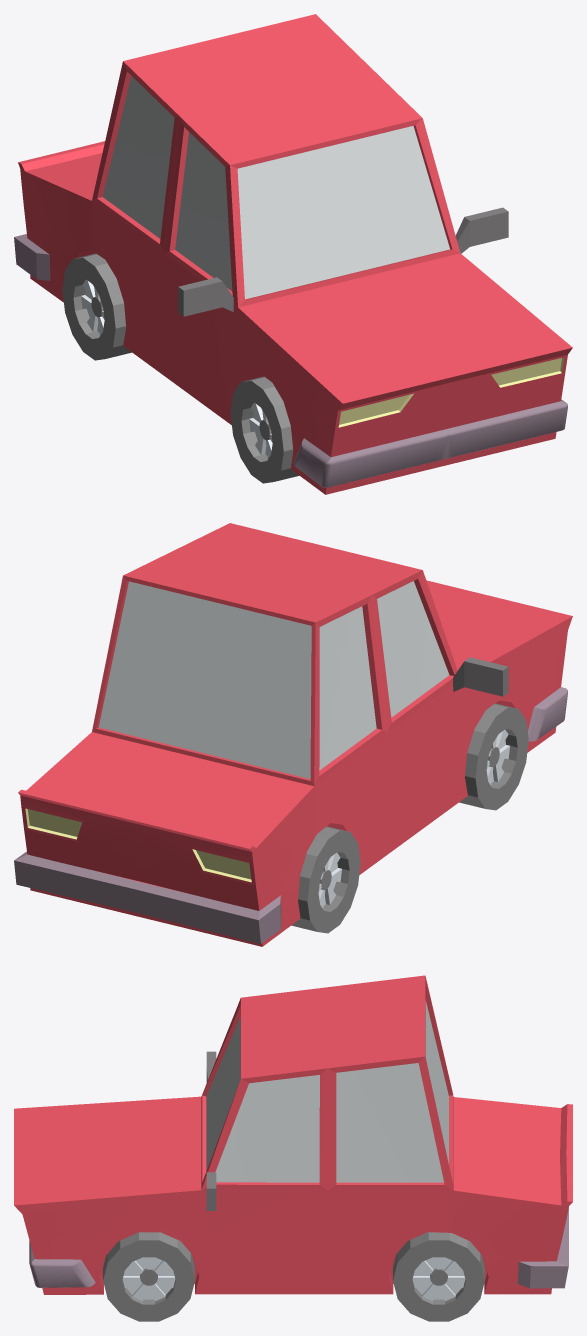
The model's file is car_new.fbx.
3 renders of one model, top to bottom at view 1: azimuth 30°, elevation 25°; view 2: azimuth 150°, elevation 25°; view 3: azimuth 270°, elevation 25°, orthographic. The views are drawn at different scales.
Parts seen in each view (by area): view 1: car window, car wheel rear, car wheel front; view 2: car window, car wheel front, car wheel rear; view 3: car window, car wheel rear, car wheel front.
Boxes of the visible parts, x1,y1,x2,y2 form: car window: (14, 14, 572, 494); car wheel rear: (62, 253, 131, 360); car wheel front: (230, 376, 299, 483); car window: (14, 523, 572, 946); car wheel front: (459, 703, 528, 810); car wheel rear: (291, 826, 360, 933); car window: (14, 975, 572, 1294); car wheel rear: (393, 1232, 484, 1321); car wheel front: (103, 1232, 194, 1321).
Size of the model in its own units: 2.41 by 2.09 by 4.17.
